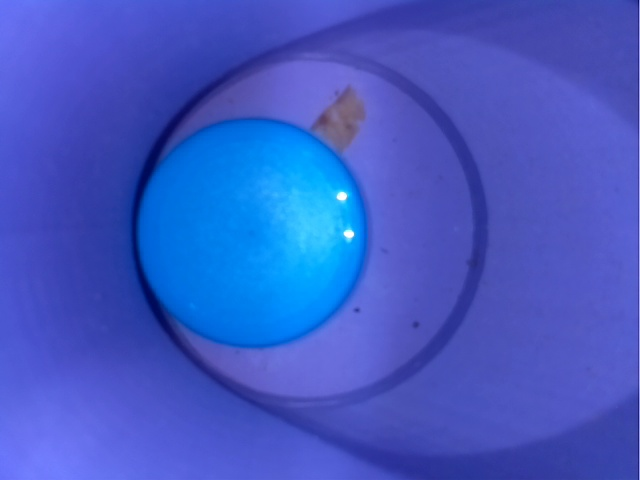bouchon: (117, 114, 390, 348)
